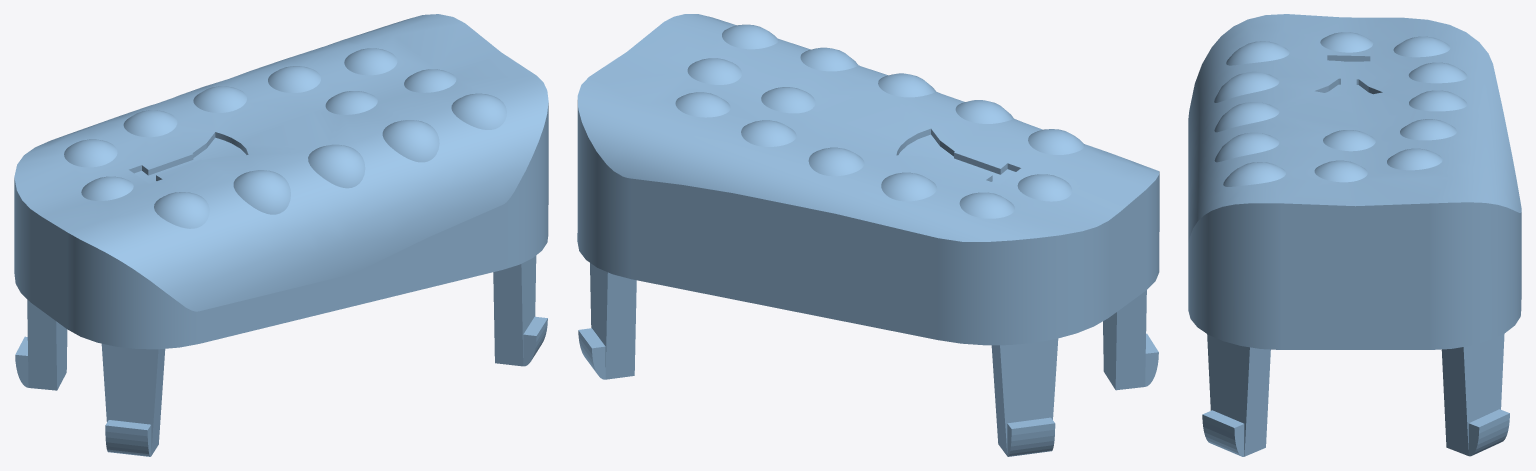
3 renders of one model, left to right at view 1: azimuth 30°, elevation 25°; view 2: azimuth 150°, elevation 25°; view 3: azimuth 270°, elevation 25°, orthographic. The views are drawn at different scales.
Parts seen in each view (by area): view 1: part_0; view 2: part_0; view 3: part_0.
Part boxes in pixels (x1,y1,x2,y2): part_0: (14, 14, 548, 456); part_0: (577, 14, 1159, 456); part_0: (1188, 14, 1521, 456).
Bounding box in the file's own units: 38.92 × 20.53 × 23.28.
